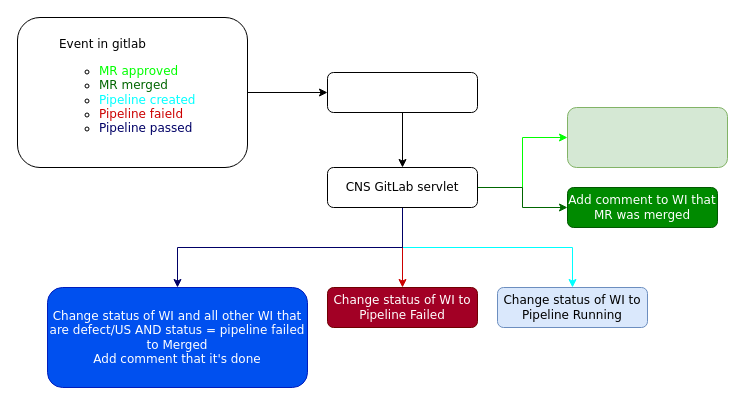
Image size: 745x405. Some labels were removed from this diagram. Each missing label, with the centre of its shape:
"Add comment to WI that MR was approved" goes at pixel 647 137.
"Web hook request" goes at pixel 402 92.
